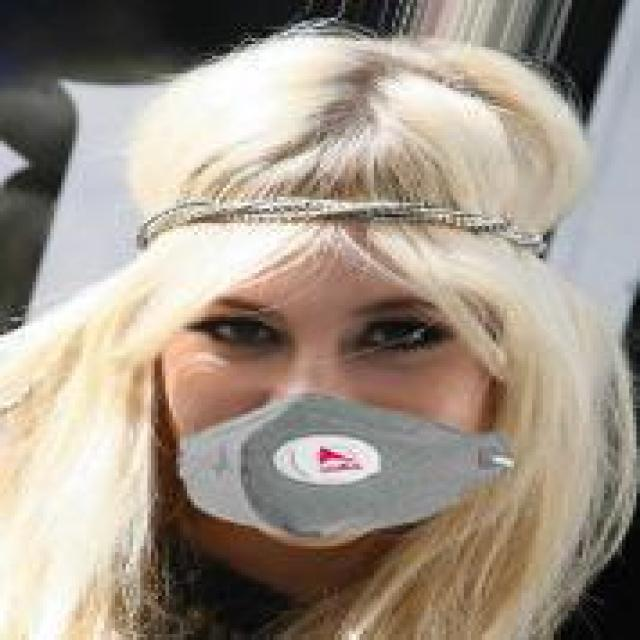mask: (158, 56, 586, 564)
